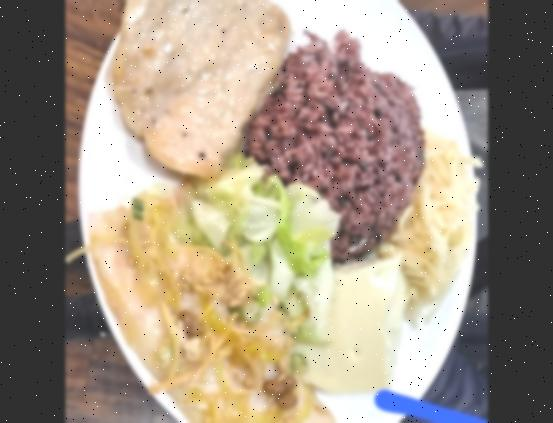grilled chicken steak: (109, 0, 293, 184)
plate: (74, 0, 480, 423)
purple rice: (242, 41, 425, 256)
side dish: (186, 163, 339, 332), (304, 244, 404, 396), (398, 134, 478, 320)
steamed fish fillet: (86, 188, 357, 423)
